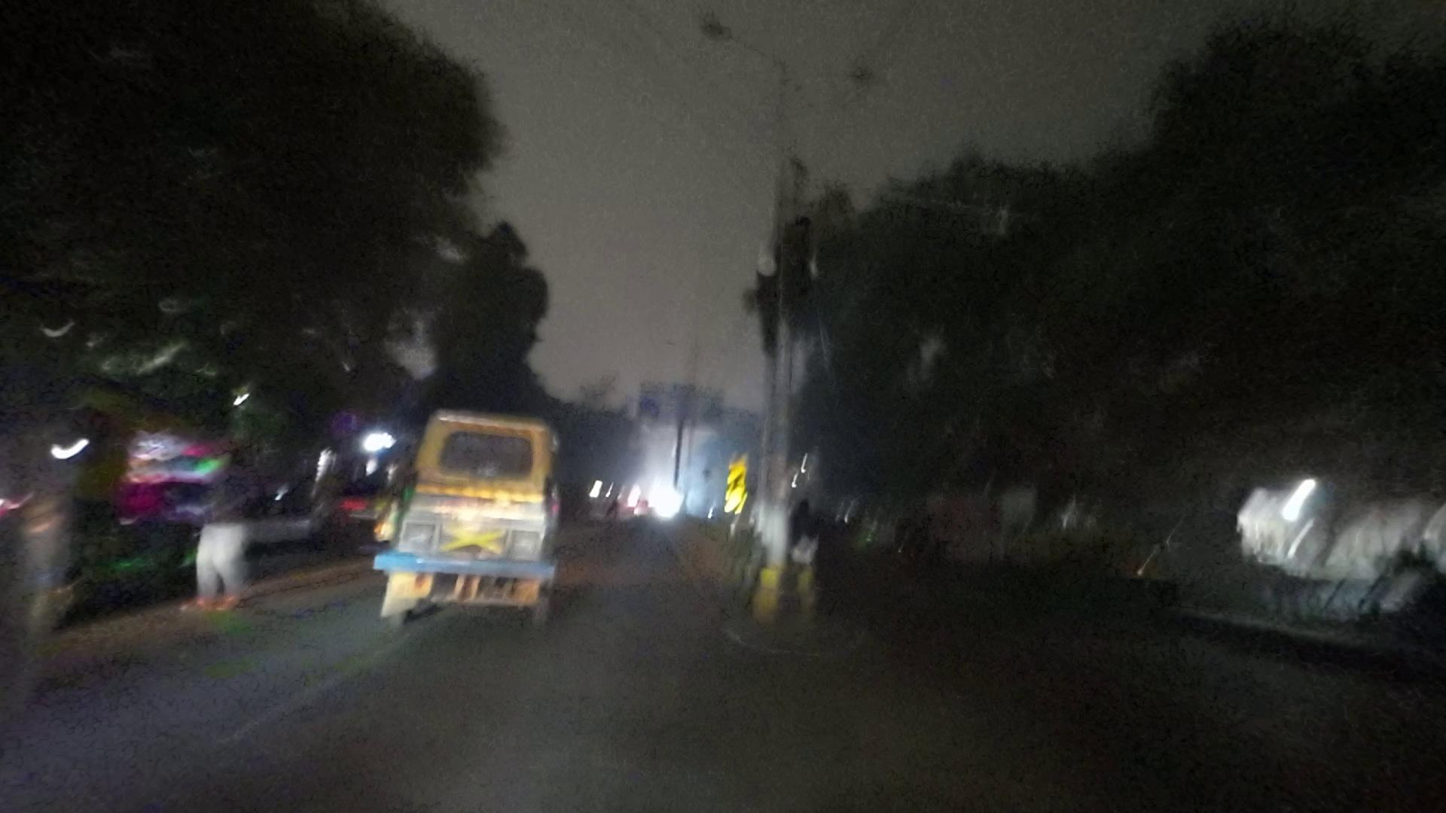streetlight: (701, 12, 784, 64), (796, 57, 878, 88)
